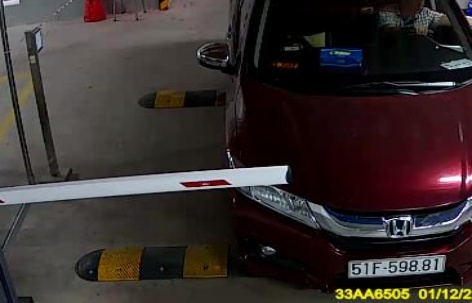plate: (343, 254, 454, 279)
